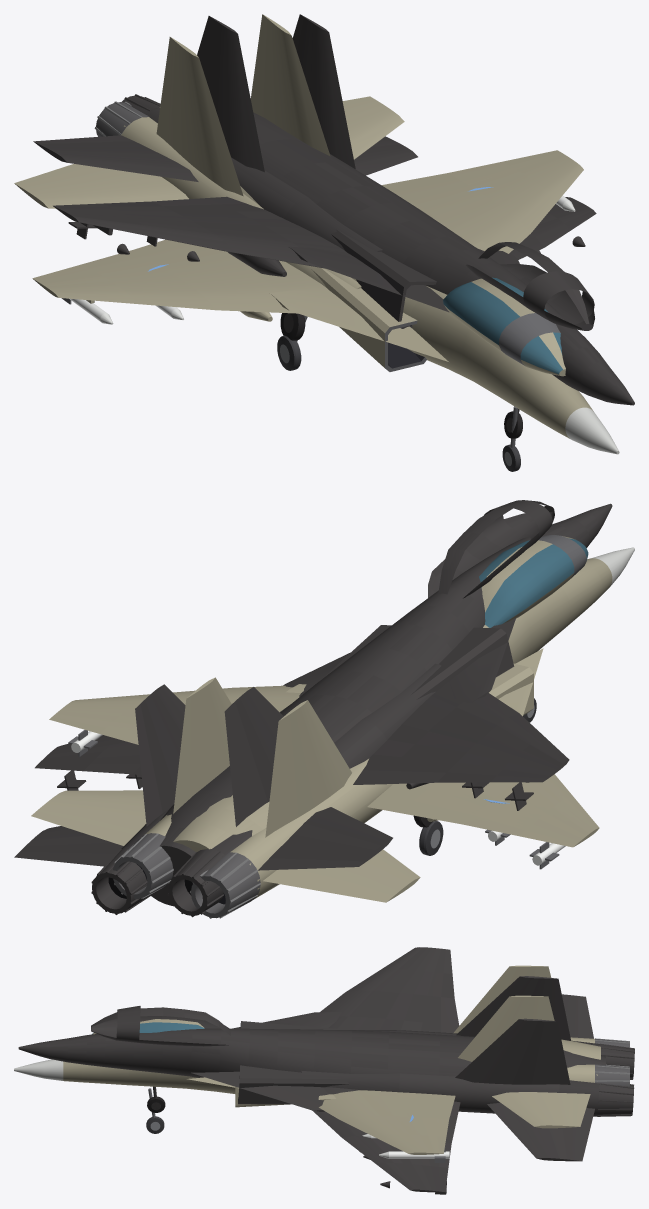
The model's file is jet__mig_29_mig_21.glb.
The picture shows the model from 3 angles, top to bottom: view 1: azimuth 30°, elevation 25°; view 2: azimuth 150°, elevation 25°; view 3: azimuth 270°, elevation 25°; orthographic projection. The views are drawn at different scales.
Parts seen in each view (by area): view 1: Fuselage_Mesh, Wreck; view 2: Wreck, Fuselage_Mesh; view 3: Wreck, Fuselage_Mesh.
Boxes of the visible parts, bbox=[...] form: Fuselage_Mesh: bbox=[14, 14, 619, 471]; Wreck: bbox=[33, 14, 634, 438]; Wreck: bbox=[14, 500, 612, 917]; Fuselage_Mesh: bbox=[31, 535, 634, 918]; Wreck: bbox=[18, 947, 634, 1194]; Fuselage_Mesh: bbox=[14, 965, 629, 1162].
Size of what is drawn, in the model's own units: 11.66 by 4.88 by 17.5.
